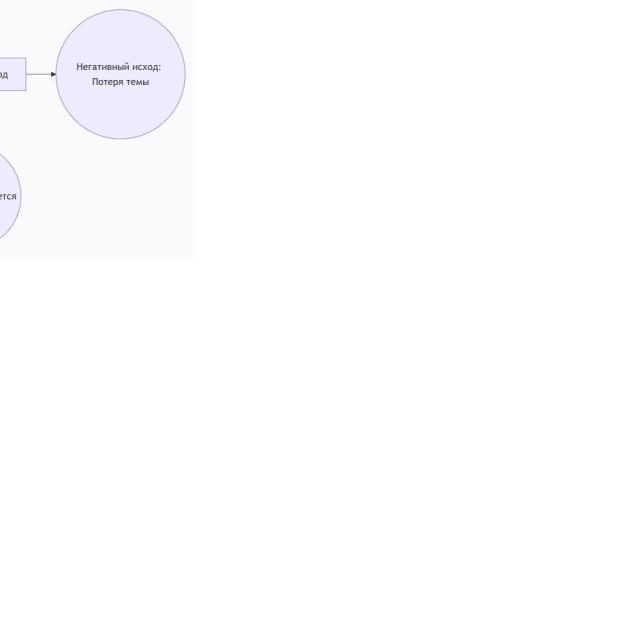arrow: (27, 71, 56, 78)
circle: (54, 8, 186, 141)
